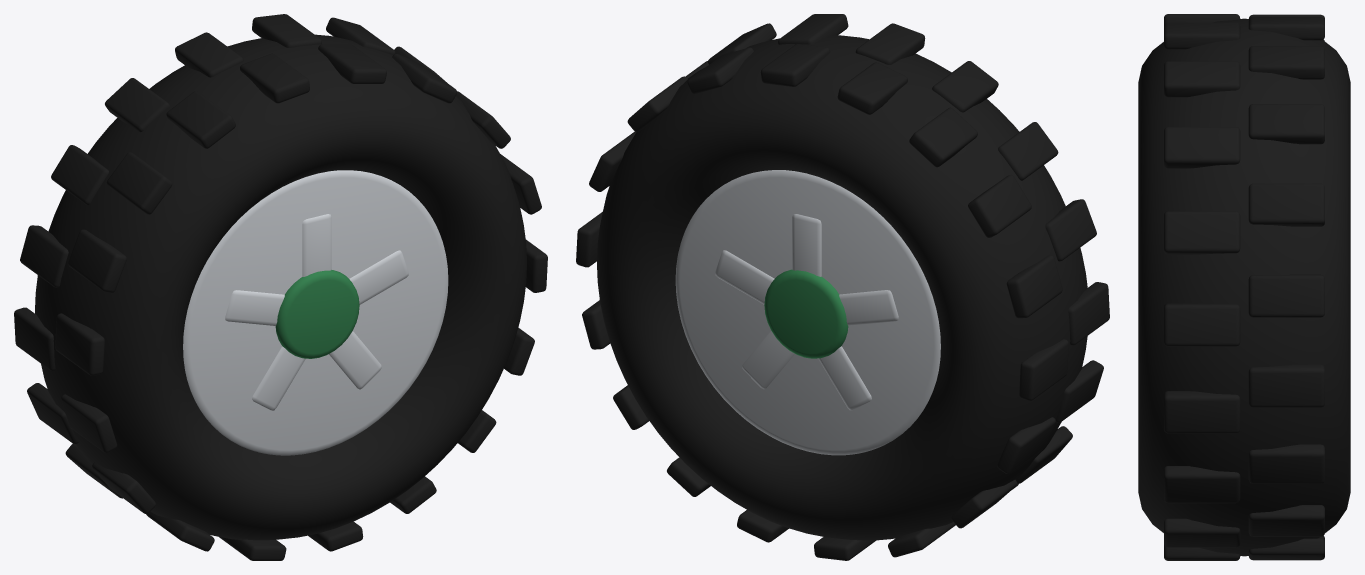
The model's file is wheel.glb.
3 renders of one model, left to right at view 1: azimuth 30°, elevation 25°; view 2: azimuth 150°, elevation 25°; view 3: azimuth 270°, elevation 25°, orthographic. The views are drawn at different scales.
Visible parts, largest first — view 1: tyre, rim, tread, hub, spoke.004, spoke, spoke.003, spoke.001, spoke.002; view 2: tyre, rim, tread, hub, spoke.004, spoke, spoke.003, spoke.001, spoke.002; view 3: tyre, tread.
Part boxes in pixels (x1,y1,x2,y2): tyre: (35, 34, 526, 540); rim: (183, 170, 448, 455); tread: (14, 14, 547, 560); hub: (275, 270, 359, 358); spoke.004: (225, 290, 284, 325); spoke: (302, 214, 331, 276); spoke.003: (252, 346, 305, 410); spoke.001: (349, 250, 408, 304); spoke.002: (329, 331, 381, 389); tyre: (597, 35, 1087, 540); rim: (675, 170, 940, 455); tread: (576, 14, 1109, 560); hub: (764, 269, 848, 358); spoke.004: (839, 290, 898, 325); spoke: (792, 214, 821, 276); spoke.003: (818, 346, 871, 410); spoke.001: (715, 250, 774, 304); spoke.002: (742, 331, 794, 389); tyre: (1138, 18, 1350, 556); tread: (1164, 14, 1324, 560).
Size of the model in its own units: 0.3867 by 0.3861 by 0.15.
